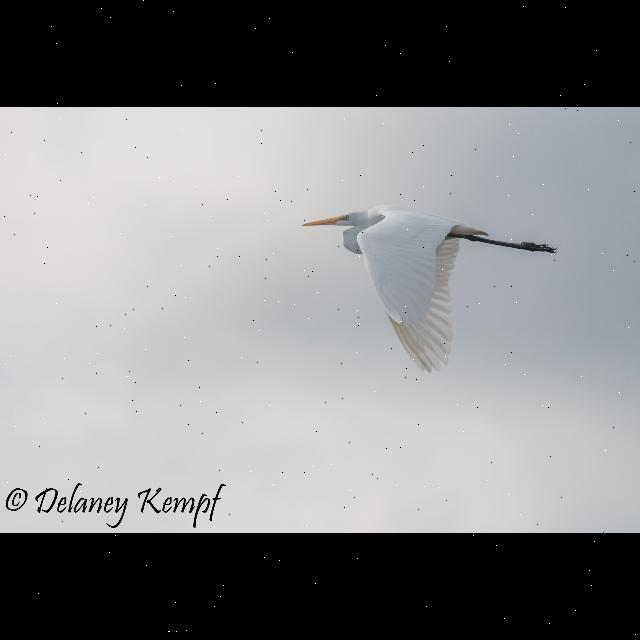egret: (298, 200, 566, 374)
